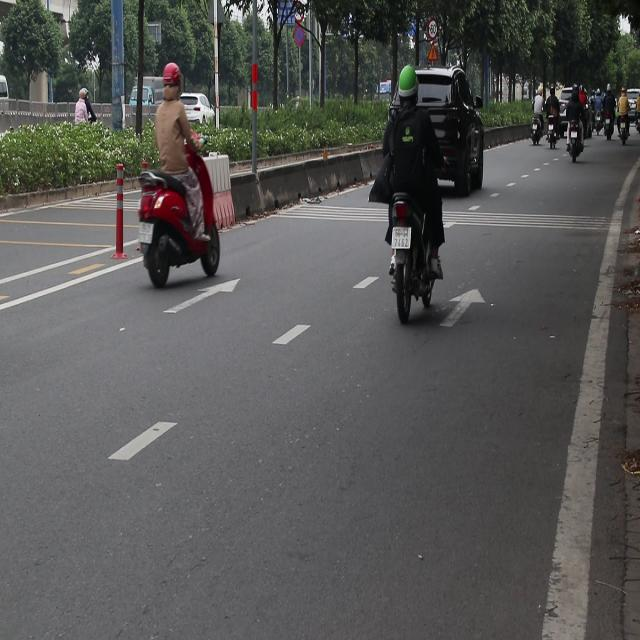car: (405, 66, 484, 196), (551, 78, 586, 116), (179, 94, 215, 126)
motorbike: (133, 157, 221, 290), (383, 212, 454, 322), (75, 113, 106, 164), (566, 114, 588, 168), (592, 103, 608, 145), (529, 116, 545, 153), (615, 116, 631, 150), (545, 122, 559, 160), (606, 116, 612, 146)
truck: (128, 61, 174, 115)
